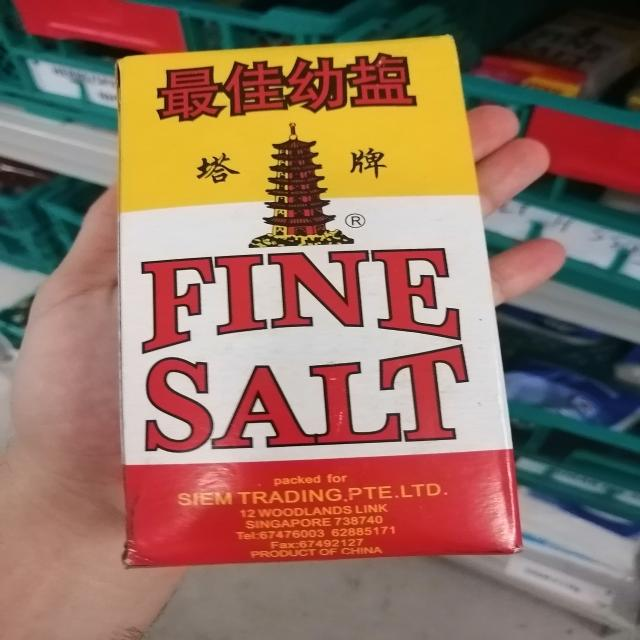object_name: (118, 57, 509, 560)
